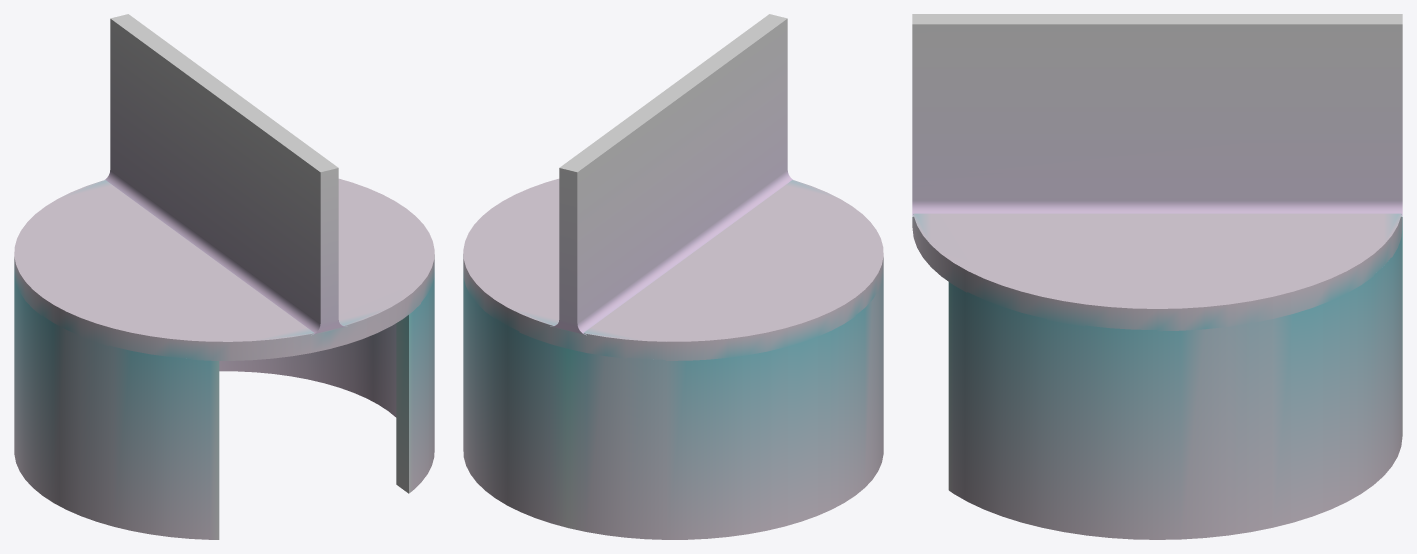
3 views of the same model, side by side, from view 1: azimuth 30°, elevation 25°; view 2: azimuth 150°, elevation 25°; view 3: azimuth 270°, elevation 25° (orthographic). The views are drawn at different scales.
Visible parts, largest first — view 1: skirt, circular_top, upright_plate; view 2: skirt, circular_top, upright_plate; view 3: upright_plate, skirt, circular_top.
Part boxes in pixels (bbox=[...]): skirt: bbox=[14, 273, 434, 539]; circular_top: bbox=[14, 178, 434, 360]; upright_plate: bbox=[105, 14, 347, 335]; skirt: bbox=[463, 273, 883, 539]; circular_top: bbox=[463, 178, 883, 360]; upright_plate: bbox=[550, 14, 792, 335]; upright_plate: bbox=[912, 14, 1402, 216]; skirt: bbox=[948, 228, 1402, 539]; circular_top: bbox=[912, 213, 1402, 331].
Size of the model in its own units: 0.2 by 0.1879 by 0.2.
